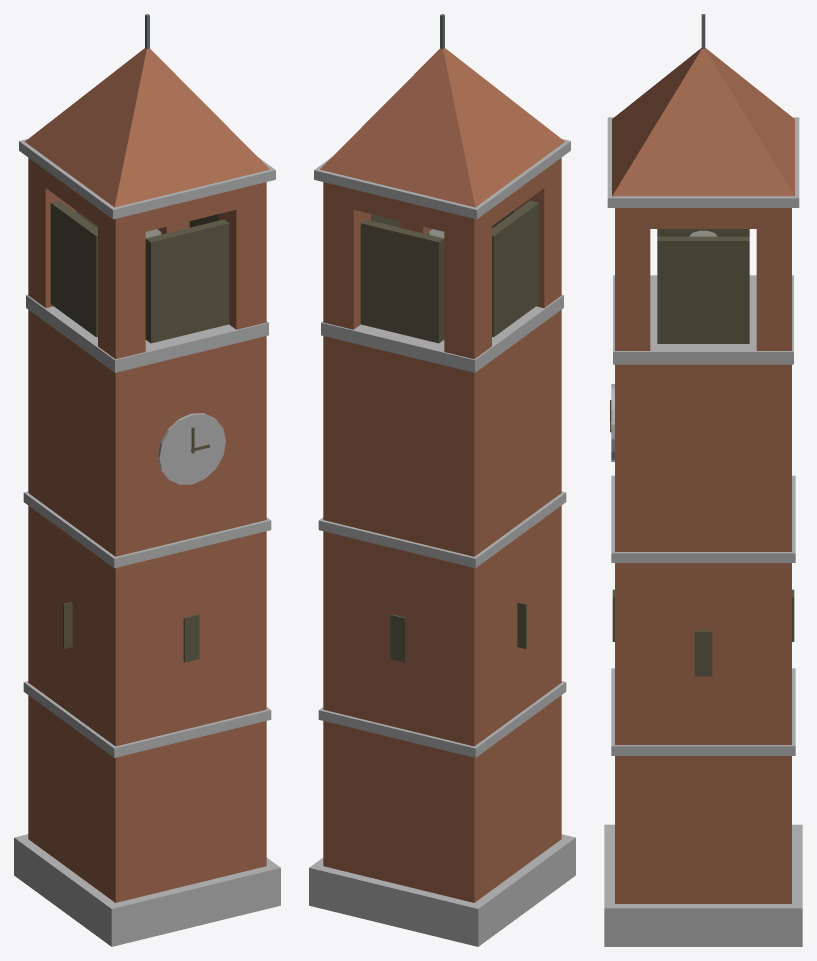
File: SM_Campanario_v2_Reloj_LOD0.fbx
The picture shows the model from 3 angles, left to right: view 1: azimuth 30°, elevation 25°; view 2: azimuth 150°, elevation 25°; view 3: azimuth 270°, elevation 25°; orthographic projection.
Parts seen in each view (by area): view 1: SM_pueblo_valenciano_v22_LOD0; view 2: SM_pueblo_valenciano_v22_LOD0; view 3: SM_pueblo_valenciano_v22_LOD0.
Boxes of the visible parts, <box> form: SM_pueblo_valenciano_v22_LOD0: <box>14,14,280,946</box>; SM_pueblo_valenciano_v22_LOD0: <box>309,14,575,946</box>; SM_pueblo_valenciano_v22_LOD0: <box>604,14,802,946</box>.
Bounding box in the file's own units: 5.6 × 27.7 × 5.6.
